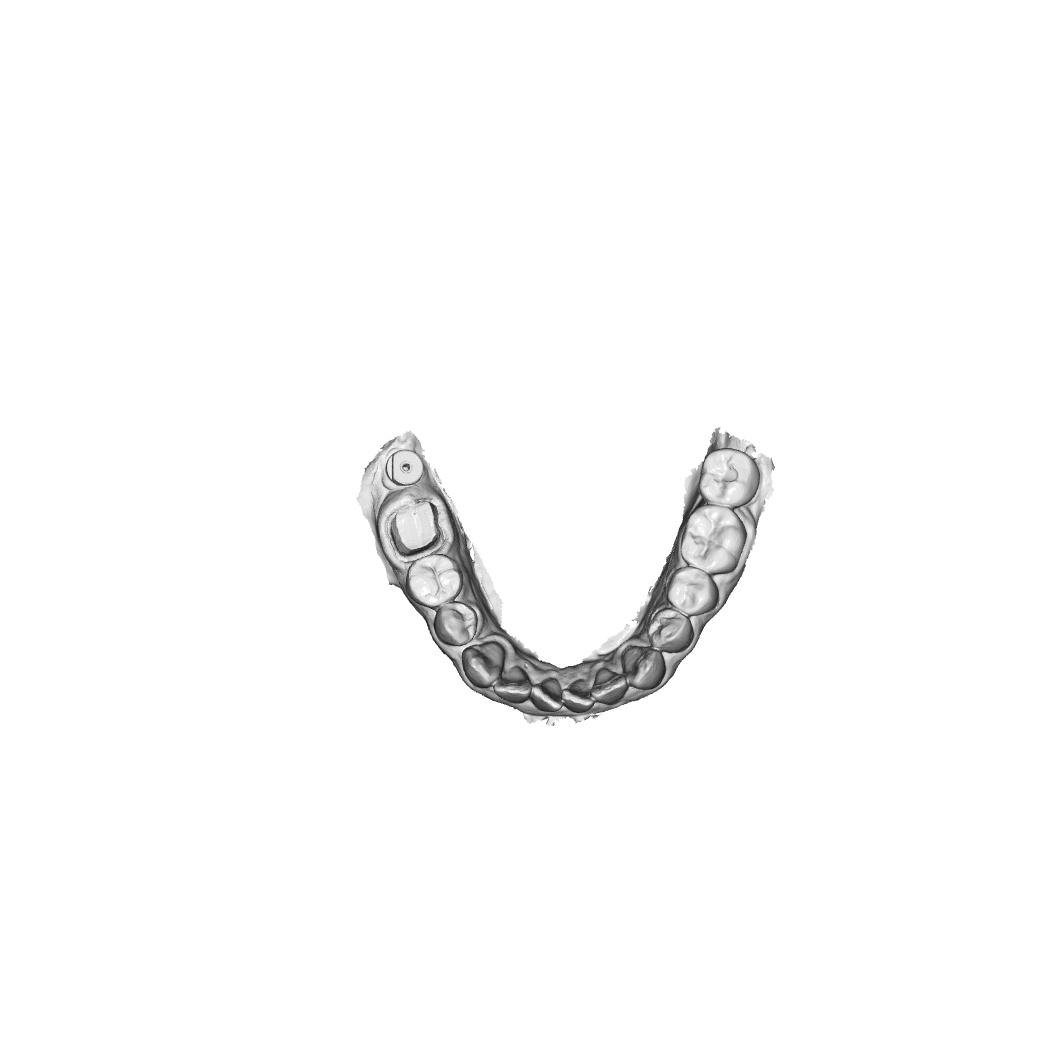canine: (620, 644, 667, 691), (461, 640, 506, 689)
crown: (384, 497, 446, 563)
implant: (384, 448, 425, 487)
incisor: (492, 664, 533, 705), (589, 667, 629, 705), (529, 676, 564, 713), (561, 677, 594, 714)
molar: (679, 504, 748, 576), (696, 447, 761, 509)
premolar: (405, 553, 463, 609), (664, 565, 720, 617), (647, 607, 695, 654), (433, 600, 480, 647)
